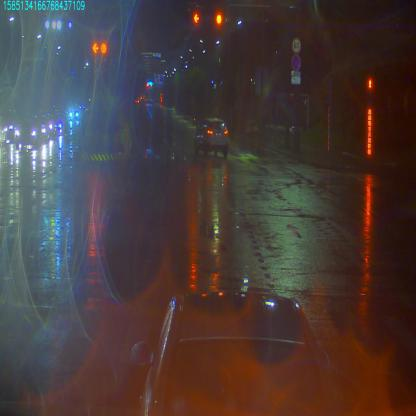traffic-light: (192, 13, 200, 28), (216, 14, 226, 25)
